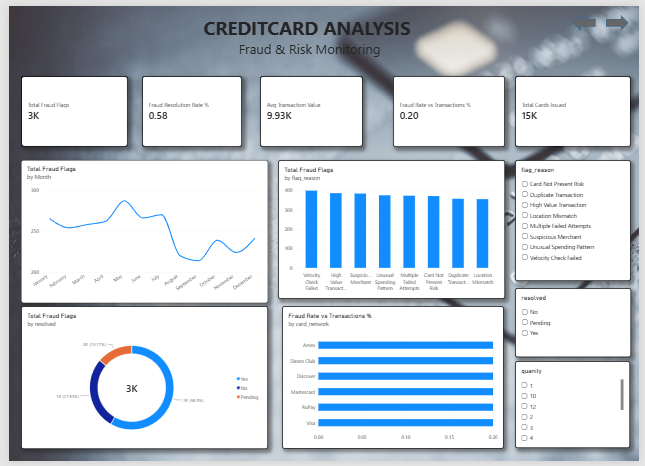

The dashboard page shown, as its layout file describes it:
{"tool":"powerbi","page":{"name":"Fraud & Risk Monitoring","canvas":[1800,1300],"ordinal":2},"visuals":[{"type":"textbox","box":[380,25,957.5,135],"z":0},{"type":"cardVisual","fields":{"Data":["fraud_flags_clean.Total Fraud Flags"]},"box":[34.3,200,305.7,202.9],"z":1000},{"type":"cardVisual","fields":{"Data":["fraud_flags_clean.Fraud Resolution Rate %"]},"box":[380,200,285.7,202.9],"z":2000},{"type":"cardVisual","fields":{"Data":["transaction_details_clean.Avg Transaction Value"]},"box":[717.1,200,294.3,202.9],"z":3000},{"type":"cardVisual","fields":{"Data":["card_quality_details_clean.Total Cards Issued"]},"box":[1445.7,200,331.4,202.9],"z":4000},{"type":"cardVisual","fields":{"Data":["fraud_flags_clean.Fraud Rate vs Transactions %"]},"box":[1097.1,200,320,202.9],"z":5000},{"type":"lineChart","fields":{"Category":["fraud_flags_clean.flag_date.Variation.Date Hierarchy.Month"],"Y":["fraud_flags_clean.Total Fraud Flags"]},"box":[34.3,440,705.7,408.6],"z":6000},{"type":"columnChart","fields":{"Category":["fraud_flags_clean.flag_reason"],"Y":["fraud_flags_clean.Total Fraud Flags"]},"box":[768.6,440,648.6,397.1],"z":7000},{"type":"donutChart","fields":{"Category":["fraud_flags_clean.resolved"],"Y":["fraud_flags_clean.Total Fraud Flags"]},"box":[34.3,857.1,705.7,408.6],"z":8000},{"type":"clusteredBarChart","fields":{"Category":["card_quality_details_clean.card_network"],"Y":["fraud_flags_clean.Fraud Rate vs Transactions %"]},"box":[780,857.1,634,408],"z":9000},{"type":"listSlicer","fields":{"Values":["fraud_flags_clean.flag_reason"]},"box":[1445.7,440,331.4,345.7],"z":10000},{"type":"listSlicer","fields":{"Values":["fraud_flags_clean.resolved"]},"box":[1445.6,804.4,332.2,197.8],"z":11000},{"type":"listSlicer","fields":{"Values":["transaction_details_clean.quanity"]},"box":[1445.6,1015.6,328.9,248.9],"z":12000},{"type":"shape","box":[1612.5,25,65,45],"z":13000},{"type":"shape","title":"Arrow","box":[1705,25,65,45],"z":14000}]}

Visuals, with their boxes in screenshot pixels (x1, y1, x2, y2), scaled from the page's 1800x1300 canvas onto the 645x466 screenshot:
textbox: (136, 9, 479, 57)
cardVisual - fraud_flags_clean.Total Fraud Flags: (12, 72, 122, 144)
cardVisual - fraud_flags_clean.Fraud Resolution Rate %: (136, 72, 239, 144)
cardVisual - transaction_details_clean.Avg Transaction Value: (257, 72, 362, 144)
cardVisual - card_quality_details_clean.Total Cards Issued: (518, 72, 637, 144)
cardVisual - fraud_flags_clean.Fraud Rate vs Transactions %: (393, 72, 508, 144)
lineChart - fraud_flags_clean.flag_date.Variation.Date Hierarchy.Month x fraud_flags_clean.Total Fraud Flags: (12, 158, 265, 304)
columnChart - fraud_flags_clean.flag_reason x fraud_flags_clean.Total Fraud Flags: (275, 158, 508, 300)
donutChart - fraud_flags_clean.resolved x fraud_flags_clean.Total Fraud Flags: (12, 307, 265, 454)
clusteredBarChart - card_quality_details_clean.card_network x fraud_flags_clean.Fraud Rate vs Transactions %: (280, 307, 507, 453)
listSlicer - fraud_flags_clean.flag_reason: (518, 158, 637, 282)
listSlicer - fraud_flags_clean.resolved: (518, 288, 637, 359)
listSlicer - transaction_details_clean.quanity: (518, 364, 636, 453)
shape: (578, 9, 601, 25)
"Arrow" shape: (611, 9, 634, 25)
